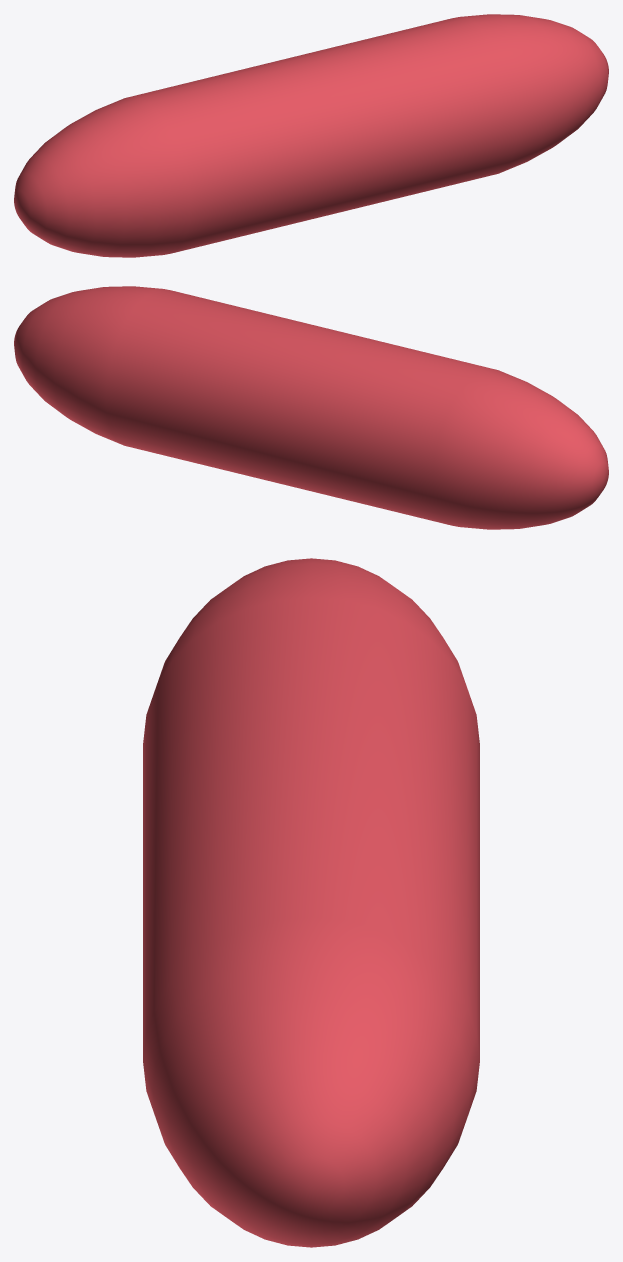
The model's file is sosis tam.fbx.
3 renders of one model, top to bottom at view 1: azimuth 30°, elevation 25°; view 2: azimuth 150°, elevation 25°; view 3: azimuth 270°, elevation 25°, orthographic. The views are drawn at different scales.
Parts seen in each view (by area): view 1: Sphere.003; view 2: Sphere.003; view 3: Sphere.003.
Part boxes in pixels (x1=…): Sphere.003: x1=14, y1=14, x2=608, y2=257; Sphere.003: x1=14, y1=286, x2=608, y2=529; Sphere.003: x1=143, y1=558, x2=479, y2=1247.
Bounding box in the file's own units: 614 × 146 × 153.
